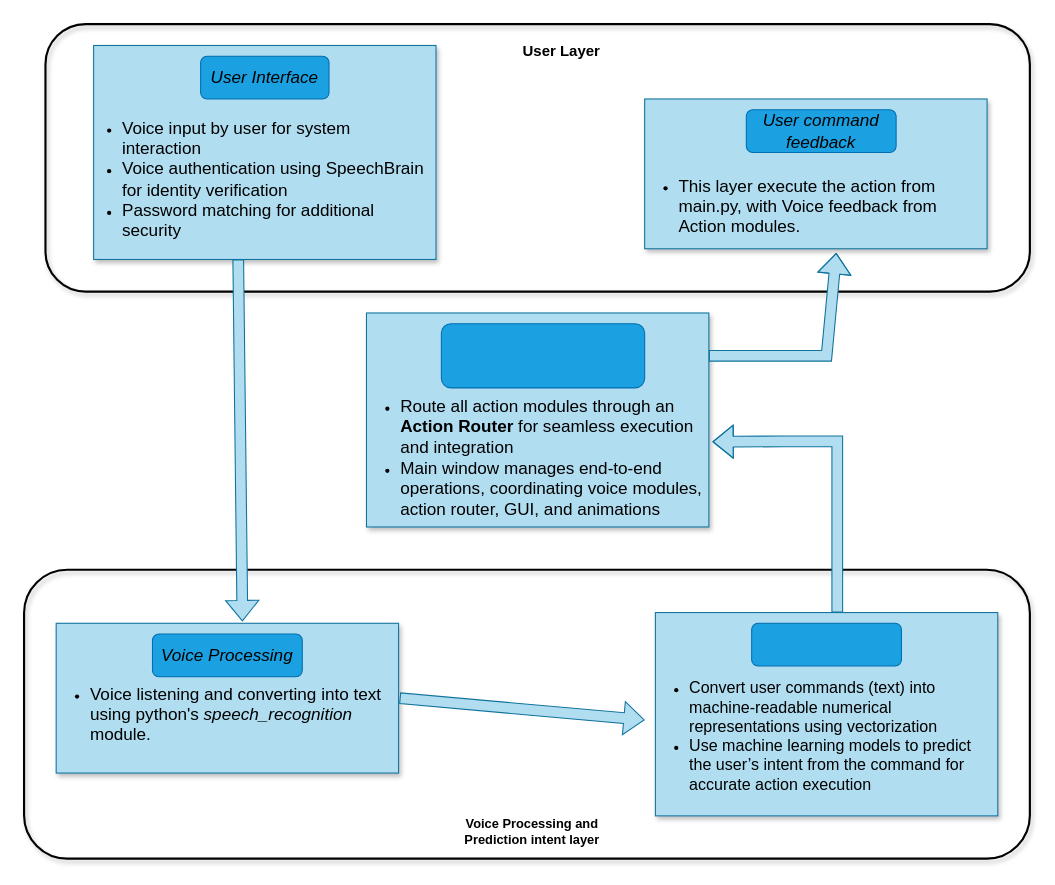
The diagram is 1055 pixels wide and 885 high, and some of its shapes have lost their labels. The centre of each missing label's shape, as x and y in pixels:
Action Execution routing and modules integration: point (542, 355)
ML Based Intent Prediction: point (826, 644)
